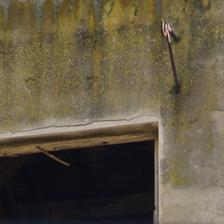Crack: (4, 113, 158, 139)
